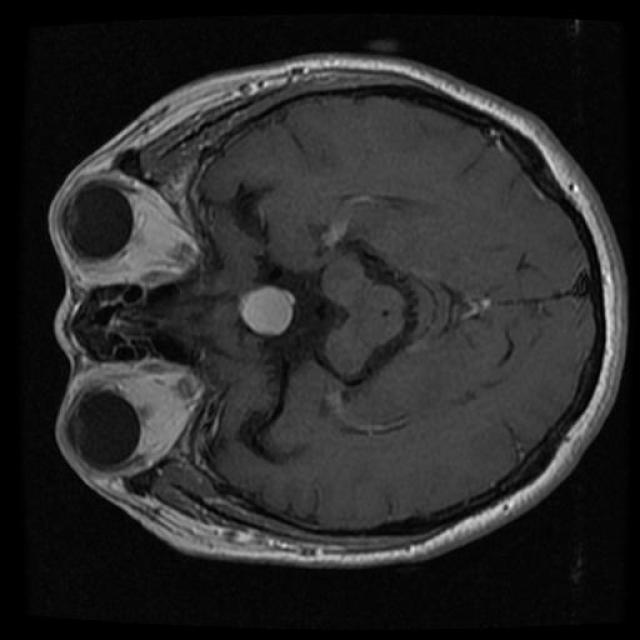Pituitary: (239, 285, 295, 335)
